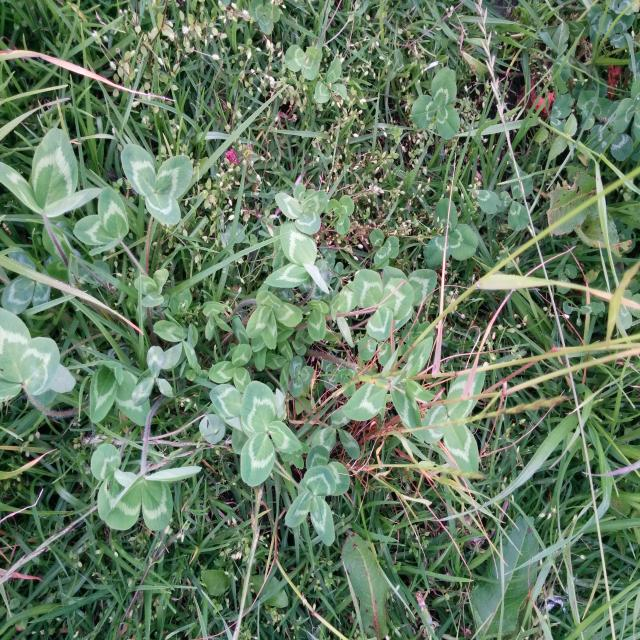Four Leaf Clover: (246, 291, 302, 350)
